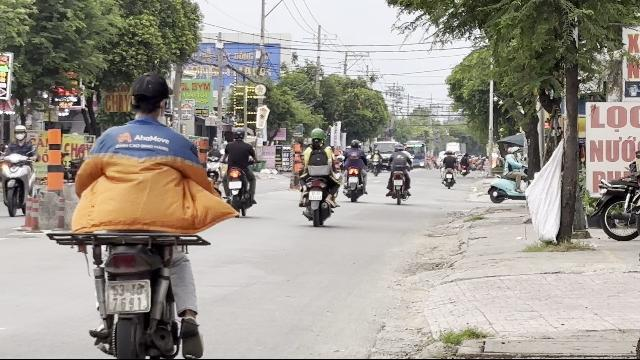licenseplate: (104, 280, 150, 312)
motorcyclist: (45, 70, 239, 358)
nohelmet: (126, 72, 172, 120)
